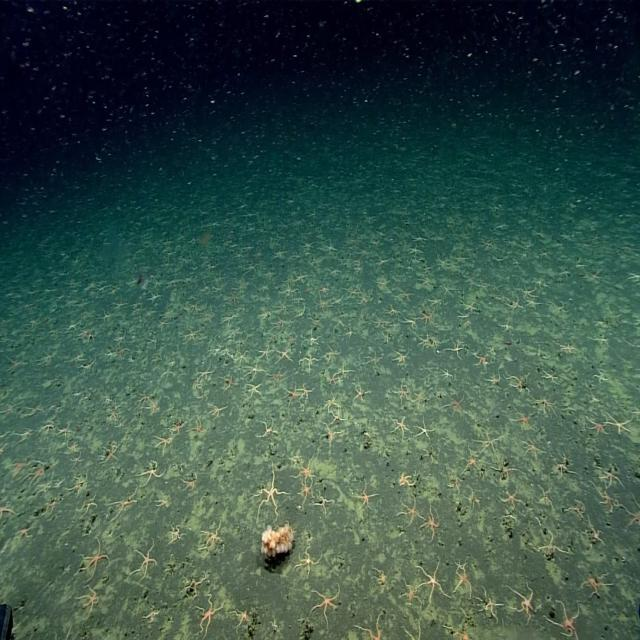brittle-stars: (418, 559, 451, 609), (253, 466, 283, 518), (192, 593, 225, 635), (308, 585, 342, 625), (551, 596, 580, 639), (508, 579, 536, 618), (82, 539, 110, 576), (131, 539, 157, 576), (110, 488, 139, 520), (200, 520, 223, 558), (421, 501, 442, 540), (596, 463, 624, 491), (296, 547, 320, 578), (400, 577, 423, 609), (400, 492, 421, 527), (454, 561, 475, 596), (606, 410, 634, 436), (478, 430, 502, 458), (355, 481, 376, 512), (79, 586, 101, 615), (355, 617, 382, 640), (479, 597, 502, 621), (499, 484, 521, 508), (397, 466, 418, 490), (522, 436, 541, 462), (392, 412, 409, 440), (462, 446, 481, 471), (232, 602, 251, 627), (514, 407, 534, 430), (300, 480, 318, 505), (444, 393, 466, 413), (534, 394, 554, 416), (541, 364, 561, 386), (586, 414, 606, 436), (297, 456, 315, 480), (141, 461, 162, 481), (416, 418, 434, 441), (353, 382, 370, 406), (196, 362, 216, 382), (320, 427, 340, 447), (324, 342, 342, 364), (246, 359, 265, 379), (559, 339, 578, 359), (101, 442, 119, 463), (448, 339, 466, 360), (474, 350, 491, 372), (168, 521, 184, 544), (506, 374, 525, 393), (365, 352, 383, 372), (396, 382, 412, 404), (420, 306, 436, 328), (271, 365, 286, 387), (259, 419, 277, 437), (209, 401, 226, 420), (304, 326, 320, 346), (32, 462, 46, 484), (154, 434, 170, 453), (180, 477, 200, 492), (276, 346, 293, 363), (284, 387, 300, 405), (393, 349, 409, 367), (300, 354, 318, 369), (299, 380, 312, 400), (260, 346, 274, 364), (405, 314, 418, 333), (222, 374, 238, 389), (248, 381, 264, 396), (146, 396, 160, 413), (191, 418, 204, 436), (462, 300, 477, 315), (112, 298, 128, 312), (170, 421, 187, 434), (358, 290, 370, 308), (430, 294, 443, 309), (296, 270, 307, 286), (186, 328, 198, 342), (71, 451, 83, 463), (441, 369, 454, 379), (70, 440, 78, 453)
